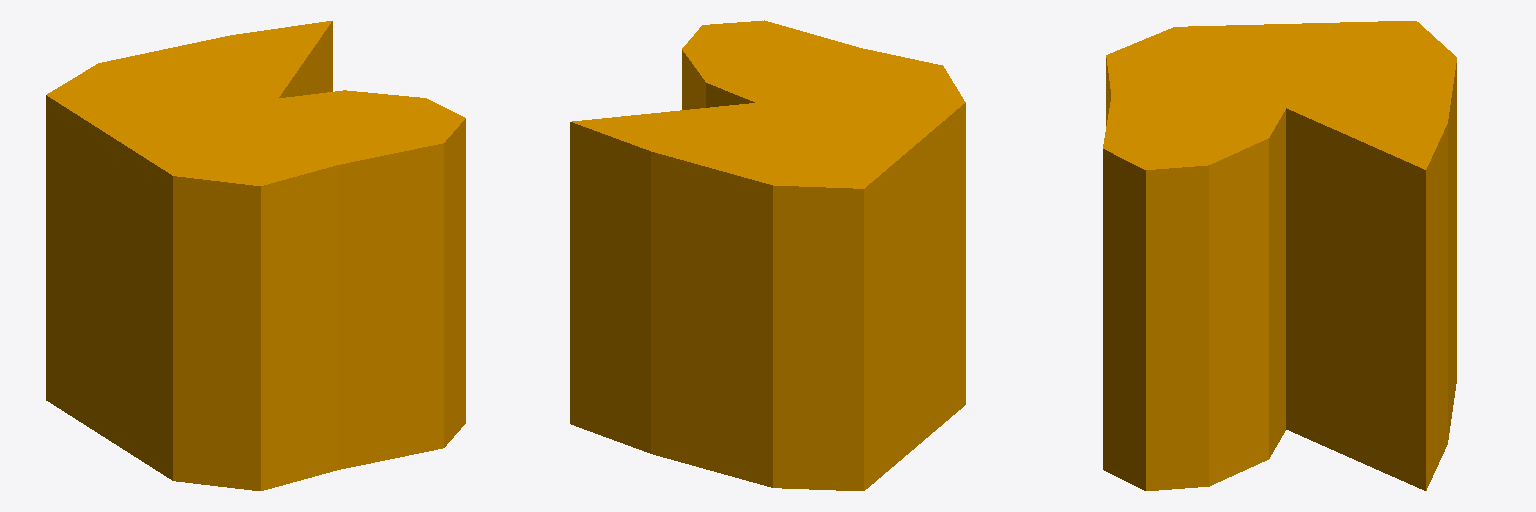
robot.urdf — object:
<?xml version="1.0"?>
<robot name="object">
  <link name="object">
    <visual>
      <origin xyz="0 0 0"/>
      <geometry>
        <mesh filename="meshes/polygon/poly_43_s.obj" scale=".03 .03 .03"/>
      </geometry>
    </visual>
    <collision>
  <origin xyz="0 0 0"/>
  <geometry>
    <mesh filename="meshes/polygon/poly_43_s_0decompose.obj" scale=".03 .03 .03"/>
<!--          <mesh filename="meshes/custom/obj0_ball.obj" scale=".05 .05 .05"/>-->
  </geometry>
</collision><collision>
  <origin xyz="0 0 0"/>
  <geometry>
    <mesh filename="meshes/polygon/poly_43_s_1decompose.obj" scale=".03 .03 .03"/>
<!--          <mesh filename="meshes/custom/obj0_ball.obj" scale=".05 .05 .05"/>-->
  </geometry>
</collision>

<!--    <collision>-->
<!--      <origin xyz="0 0 0"/>-->
<!--      <geometry>-->
<!--        <mesh filename="meshes/polygon/poly_43_s.obj" scale=".03 .03 .03"/>-->
<!--&lt;!&ndash;          <mesh filename="meshes/custom/obj0_ball.obj" scale=".05 .05 .05"/>&ndash;&gt;-->
<!--      </geometry>-->
<!--    </collision>-->
    <inertial>
      <density value="1000.0"/>
    </inertial>
  </link>
</robot>

--- Facts derived from the render (not from the file) ---
3 views of the same robot in one strip: view 1: azimuth 30°, elevation 25°; view 2: azimuth 150°, elevation 25°; view 3: azimuth 270°, elevation 25° (orthographic).
Robot: object — 1 links, 0 joints (none); root link object; default pose: all joints at 0.
Visible links, largest first — view 1: object; view 2: object; view 3: object.
Boxes of the visible links, x1,y1,x2,y2 form: object: (46, 21, 465, 490); object: (570, 20, 965, 490); object: (1103, 21, 1456, 490).
Bounding box of the posed robot: 0.06 × 0.06 × 0.06 m (x, y, z).
1 mesh visuals loaded from 1 distinct referenced files (1 OBJ).
